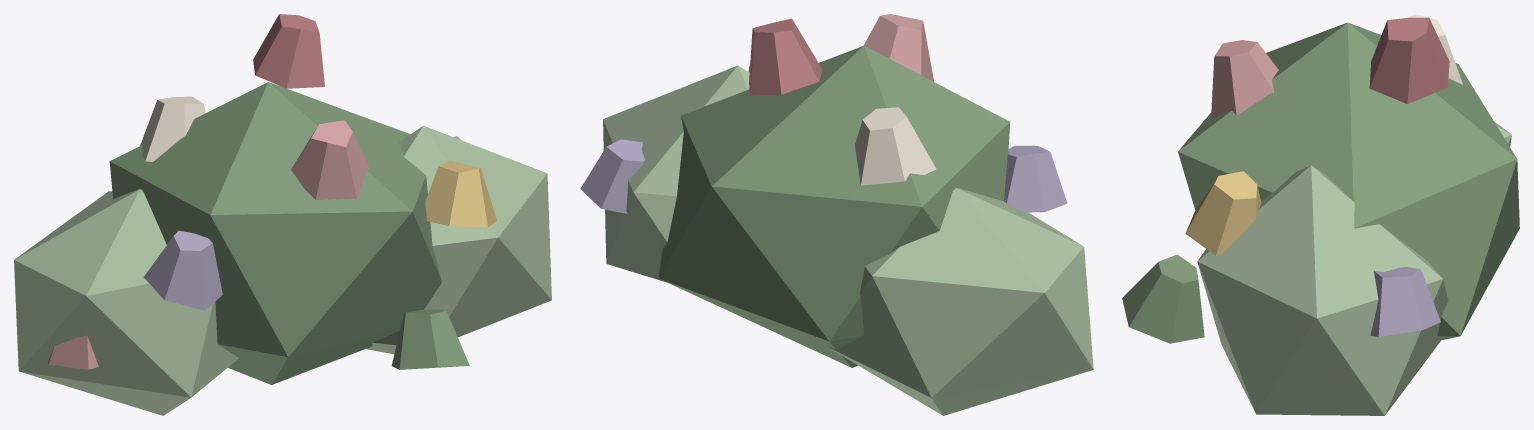
Rendered from sb_gumdrop_bush.glb.
3 renders of one model, left to right at view 1: azimuth 30°, elevation 25°; view 2: azimuth 150°, elevation 25°; view 3: azimuth 270°, elevation 25°, orthographic. The views are drawn at different scales.
Parts seen in each view (by area): view 1: gumdrop_bush; view 2: gumdrop_bush; view 3: gumdrop_bush.
Part boxes in pixels (box(x1,y1,x2,y2)): gumdrop_bush: box(14, 14, 551, 415); gumdrop_bush: box(580, 14, 1093, 415); gumdrop_bush: box(1122, 14, 1519, 415).
Bounding box in the file's own units: 1.05 × 0.7047 × 0.672.
